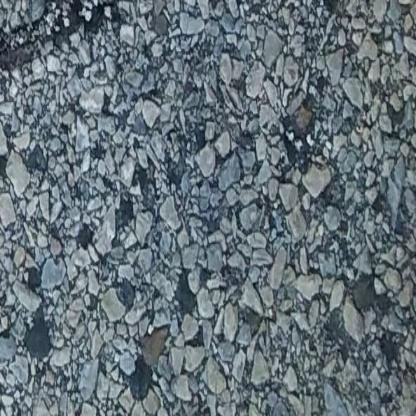Cracks: (0, 0, 180, 85)
